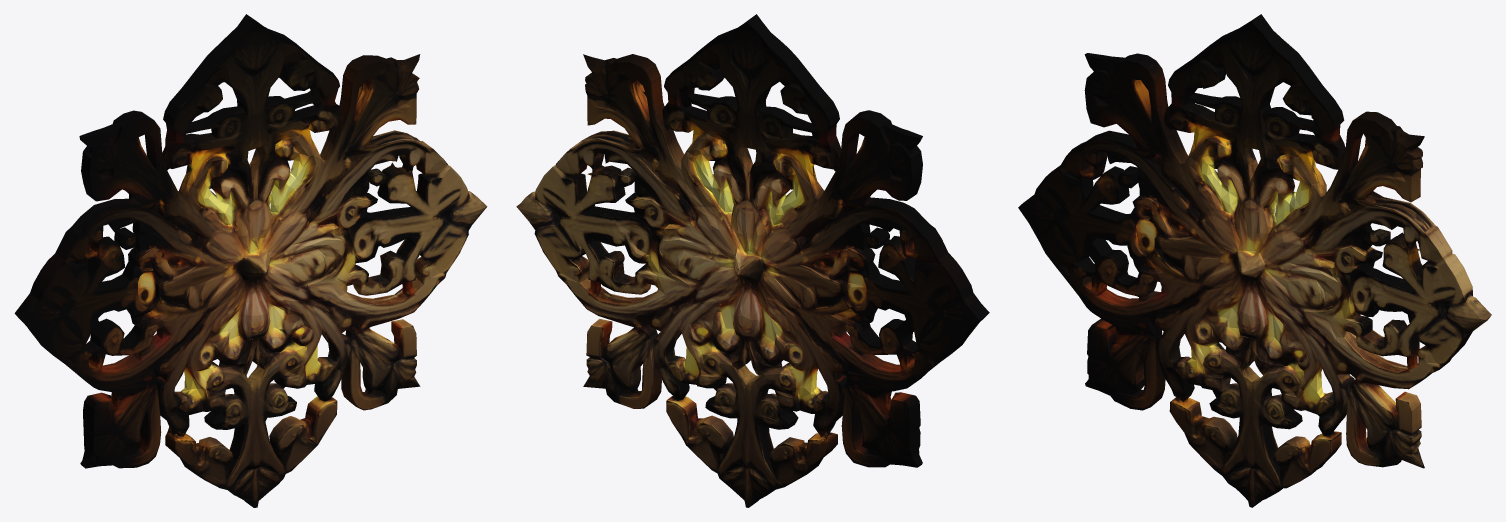
File: wooden-ornamental-carving-vintage.jpeg.glb
3 renders of one model, left to right at view 1: azimuth 30°, elevation 25°; view 2: azimuth 150°, elevation 25°; view 3: azimuth 330°, elevation 25°, orthographic.
Parts seen in each view (by area): view 1: world; view 2: world; view 3: world.
Part boxes in pixels (x1,y1,x2,y2): world: (14, 14, 487, 507); world: (516, 14, 989, 507); world: (1018, 14, 1491, 507).
Size of the model in its own units: 1 by 1 by 0.1072.
Materials: 1 (1 with a texture image).
